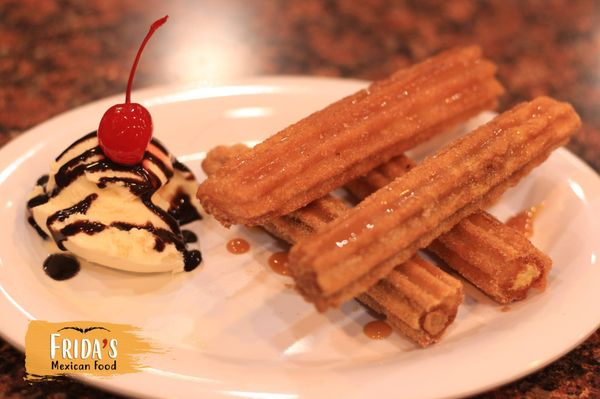curry: (0, 10, 595, 391)
sushi: (26, 105, 204, 275)
